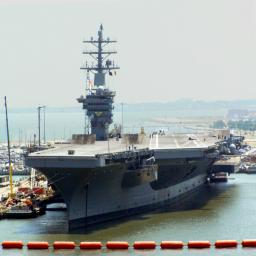Portanaves: (25, 12, 234, 235)
